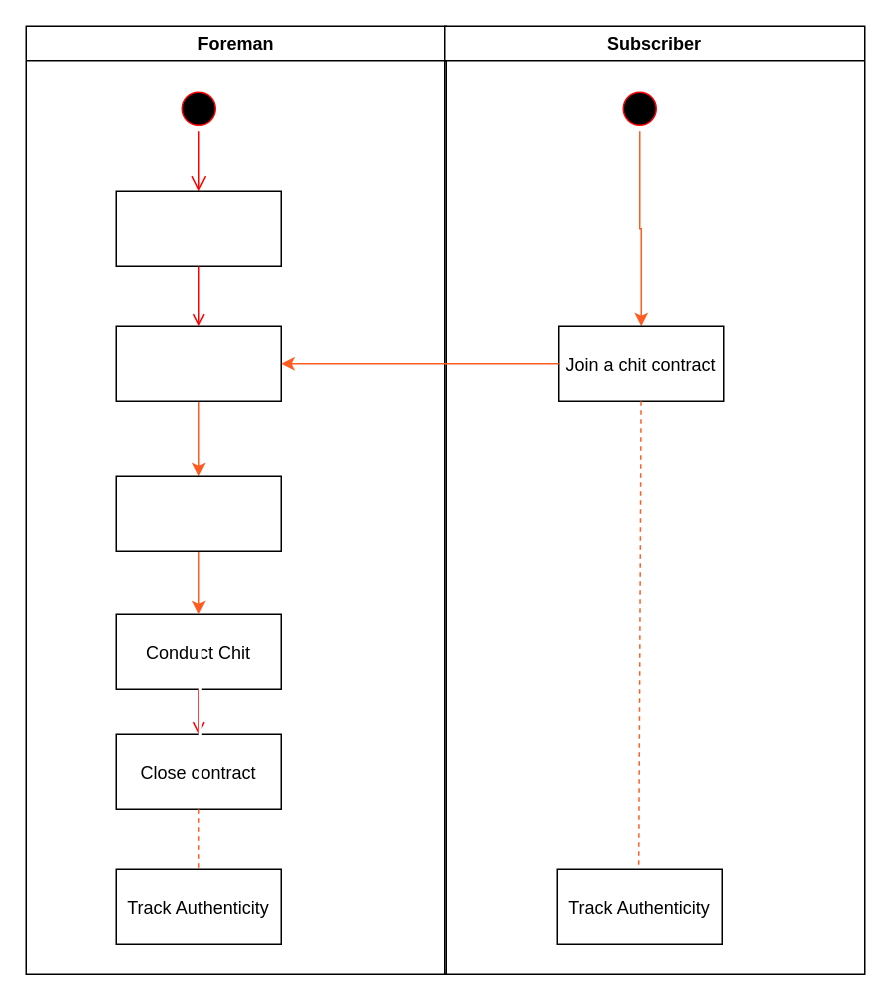
The diagram is 891 pixels wide and 1001 high, and some of its shapes have lost their labels. Each missing label, with the centre of its shape:
"Create a Chit Contract" belongs at point 198,228.
"Invite Subscribers" belongs at point 198,363.
"Start Chit" belongs at point 198,513.
